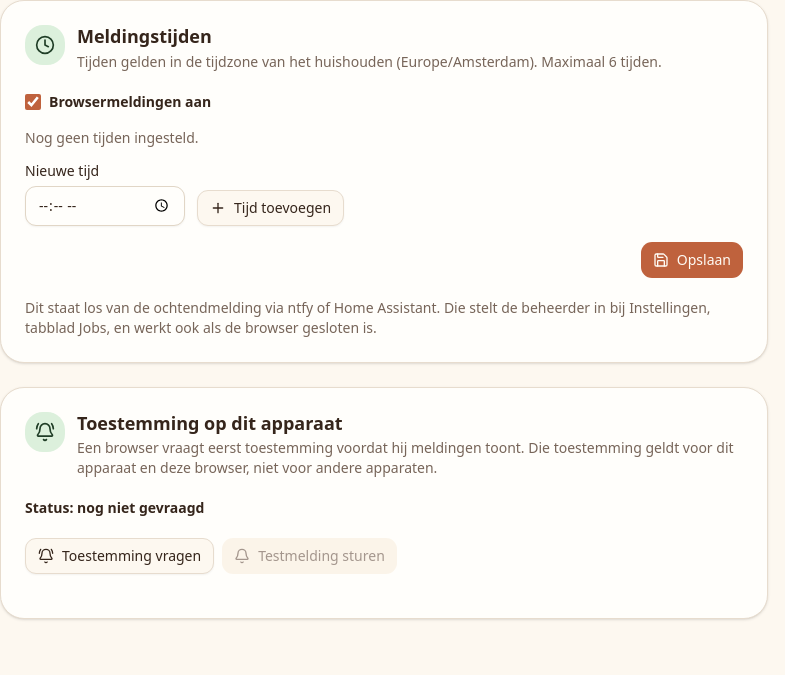
Scenario: BrowserNotificationsSection moments › adds a time with Enter instead of saving the form
The image size is (785, 675).
Type "07:45" into the time field labelled "Nieuwe tijd" at (105, 206), box [25,186,185,226]
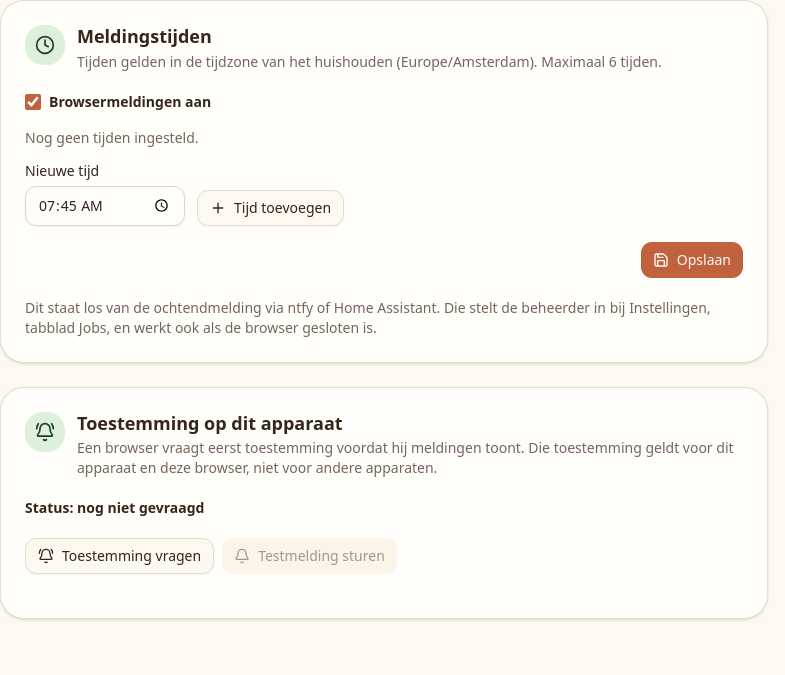
Press Enter in the time field labelled "Nieuwe tijd", box [25,186,185,226]
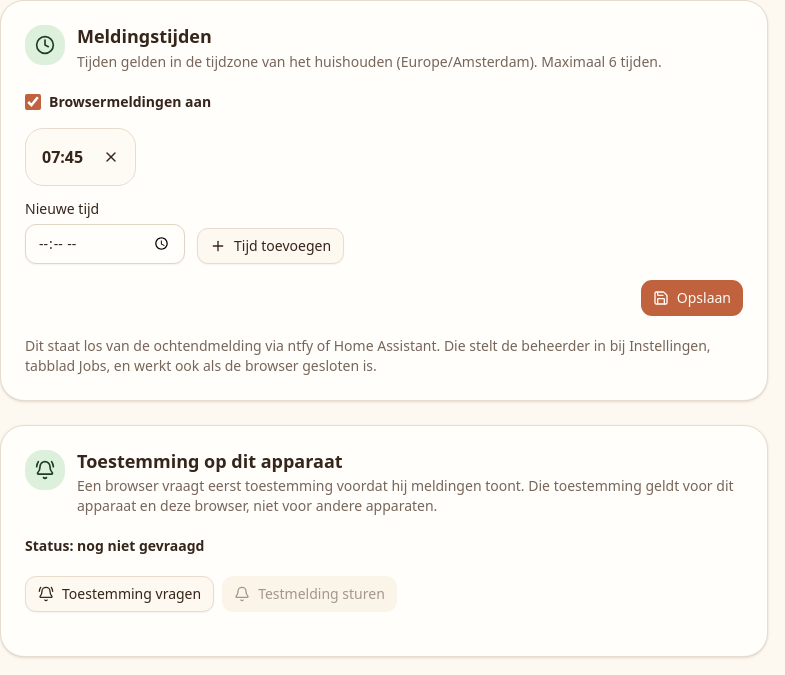
Now the list items read "07:45", in this order, box [25,128,136,186]
Now the time field labelled "Nieuwe tijd" is empty, box [25,224,185,264]
